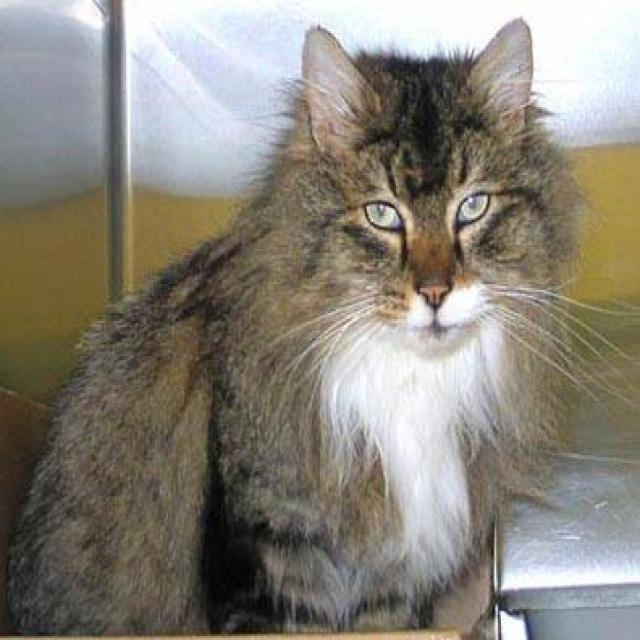cat: (5, 16, 638, 636)
